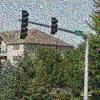traffic lights: (20, 9, 28, 40), (52, 17, 58, 35)
